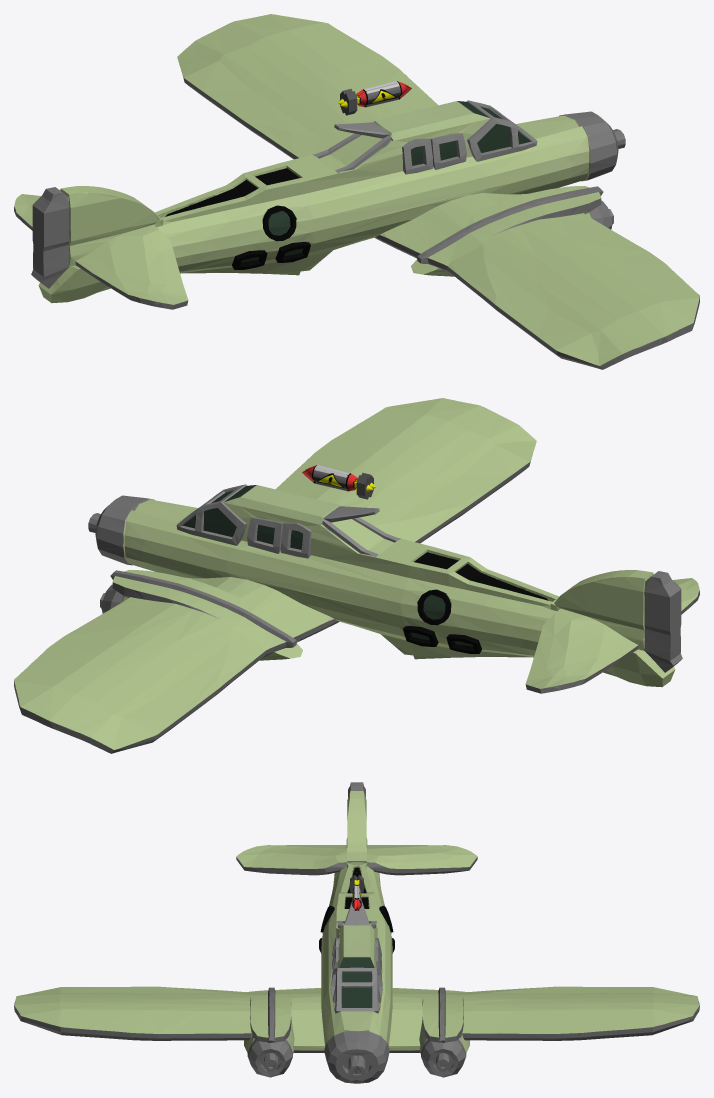
3 views of the same model, one above another, from view 1: azimuth 30°, elevation 25°; view 2: azimuth 150°, elevation 25°; view 3: azimuth 270°, elevation 25° (orthographic). The views are drawn at different scales.
Visible parts, largest first — view 1: Plane, Bomb; view 2: Plane, Bomb; view 3: Plane.
Boxes of the visible parts, x1=… form: Plane: x1=14, y1=14, x2=699, y2=369; Bomb: x1=337, y1=81, x2=411, y2=115; Plane: x1=14, y1=398, x2=699, y2=753; Bomb: x1=302, y1=465, x2=376, y2=499; Plane: x1=14, y1=782, x2=699, y2=1083.
Size of the model in its own units: 88.34 by 23.98 by 113.
8 materials, 2 textured.
